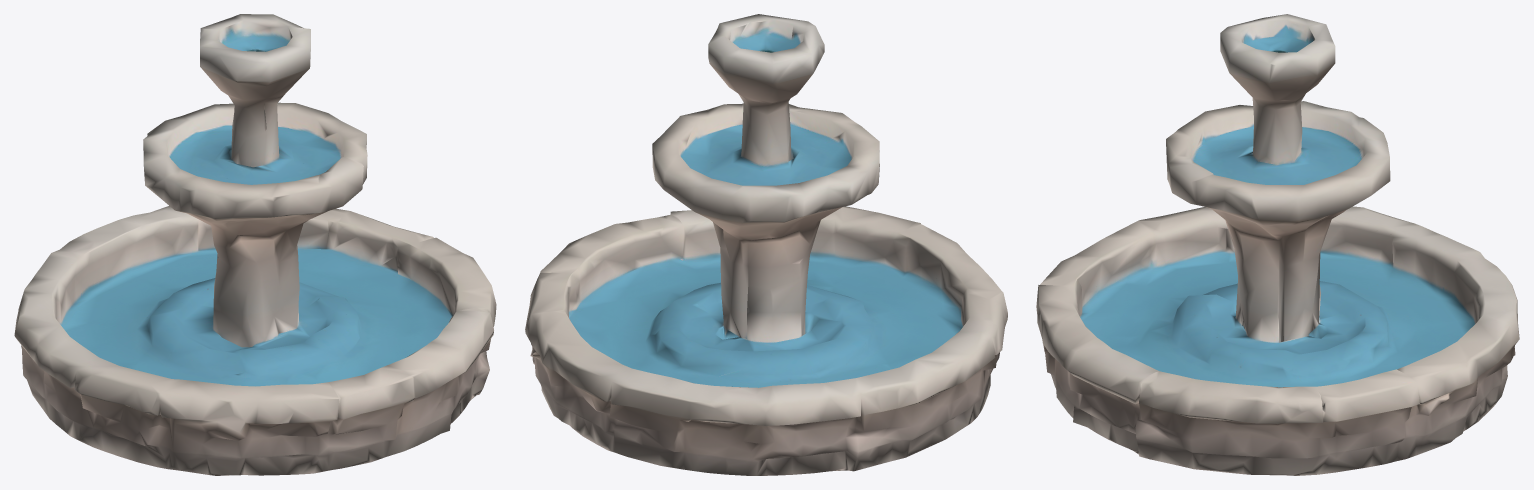
File: fountain.glb
3 views of the same model, side by side, from view 1: azimuth 30°, elevation 25°; view 2: azimuth 150°, elevation 25°; view 3: azimuth 270°, elevation 25° (orthographic).
Parts seen in each view (by area): view 1: tripo_node_134cbaaf-4670-4825-8cd4-f59d113f9bf5; view 2: tripo_node_134cbaaf-4670-4825-8cd4-f59d113f9bf5; view 3: tripo_node_134cbaaf-4670-4825-8cd4-f59d113f9bf5.
Boxes of the visible parts, bbox=[...] form: tripo_node_134cbaaf-4670-4825-8cd4-f59d113f9bf5: bbox=[14, 14, 496, 475]; tripo_node_134cbaaf-4670-4825-8cd4-f59d113f9bf5: bbox=[525, 14, 1007, 475]; tripo_node_134cbaaf-4670-4825-8cd4-f59d113f9bf5: bbox=[1036, 14, 1519, 475].
Bounding box in the file's own units: 0.9885 × 0.7886 × 1.
Materials: 1 (1 with a texture image).
